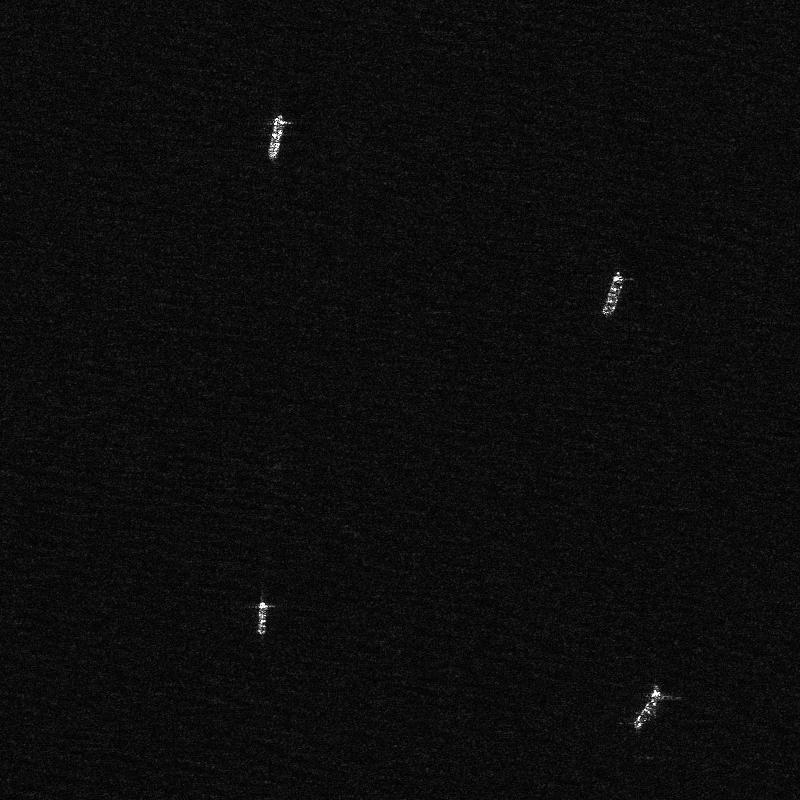ship: (633, 685, 661, 729), (602, 272, 623, 316), (267, 115, 284, 160), (257, 601, 266, 634)
